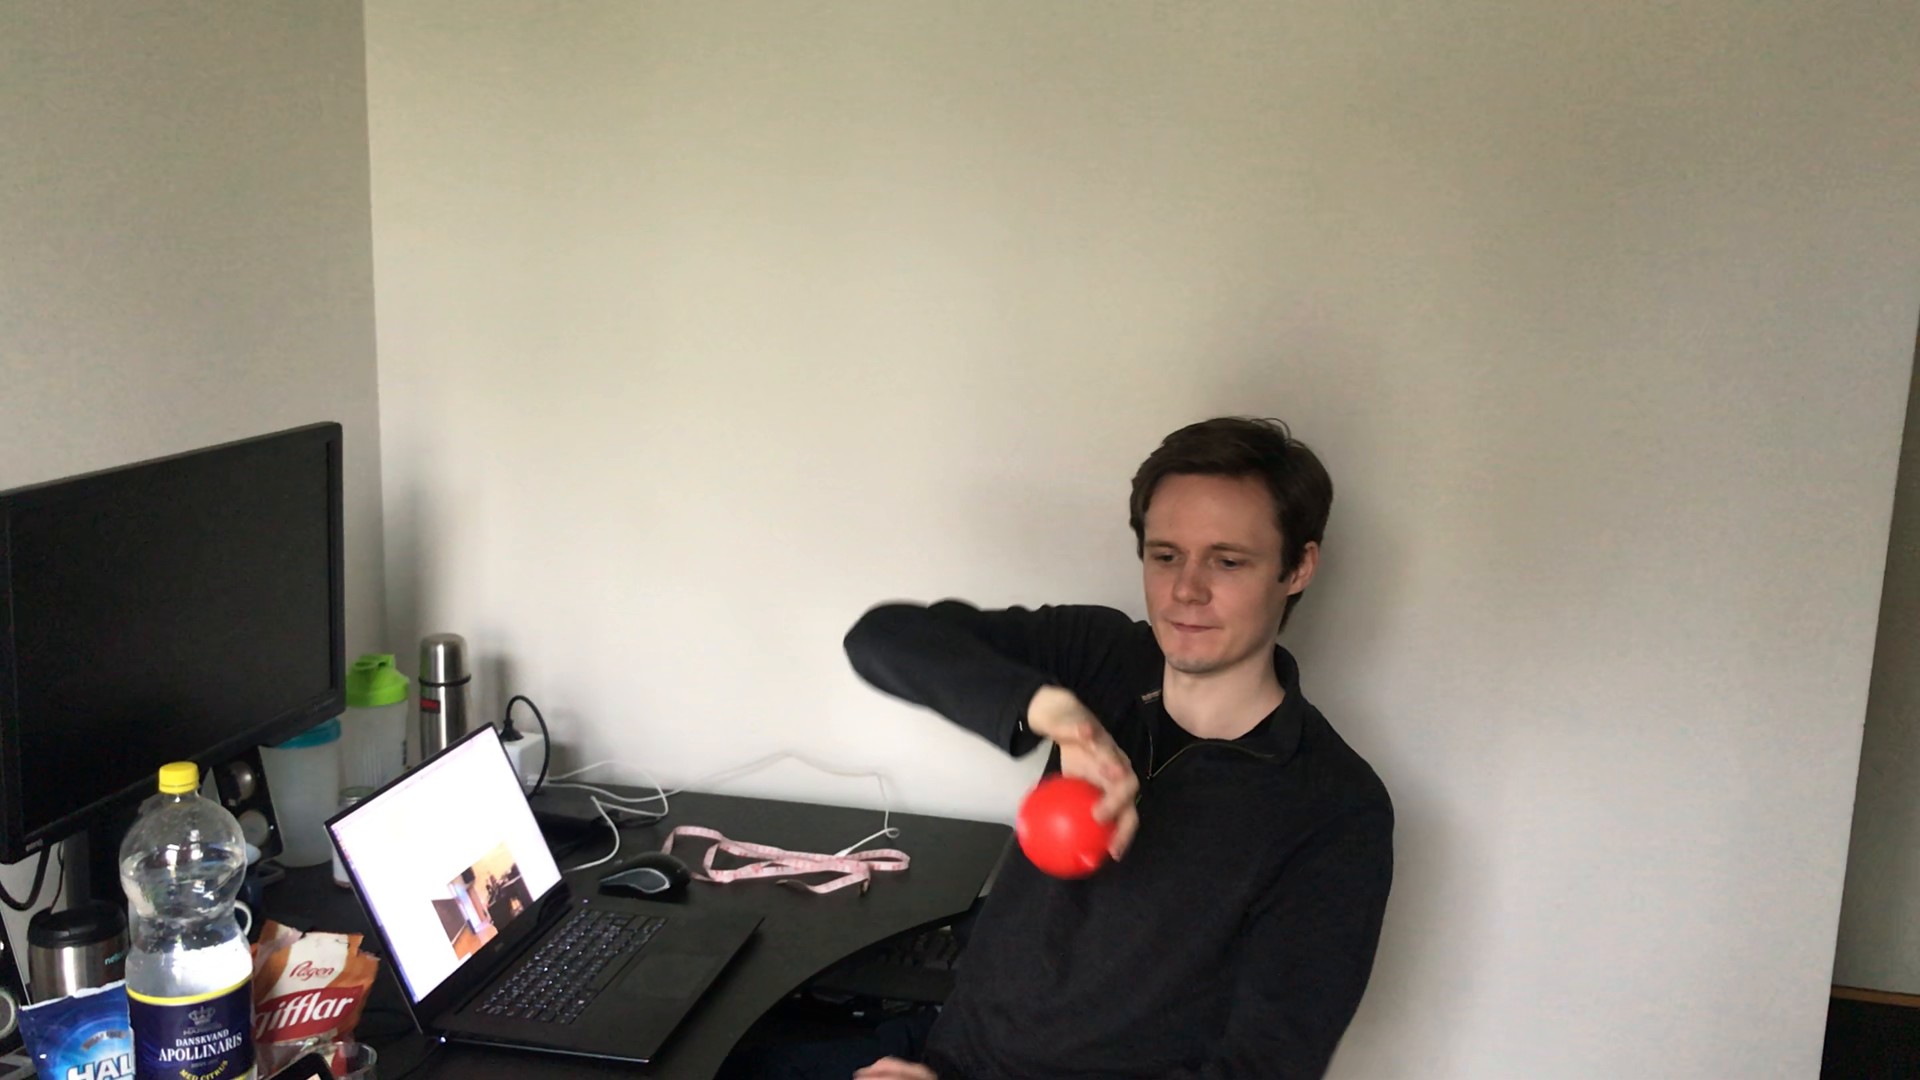Ball: (1014, 779, 1122, 881)
